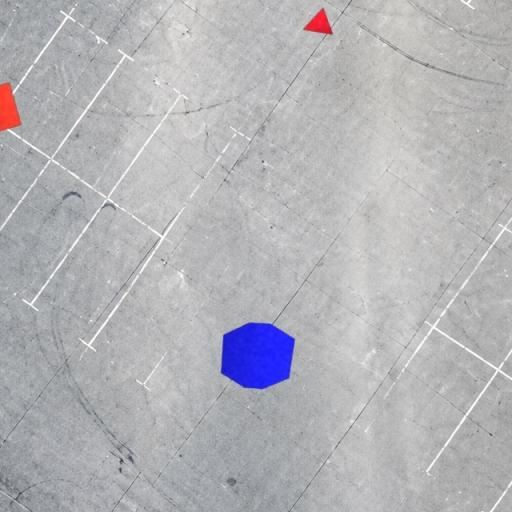RED_SQUARE: (0, 82, 22, 138)
